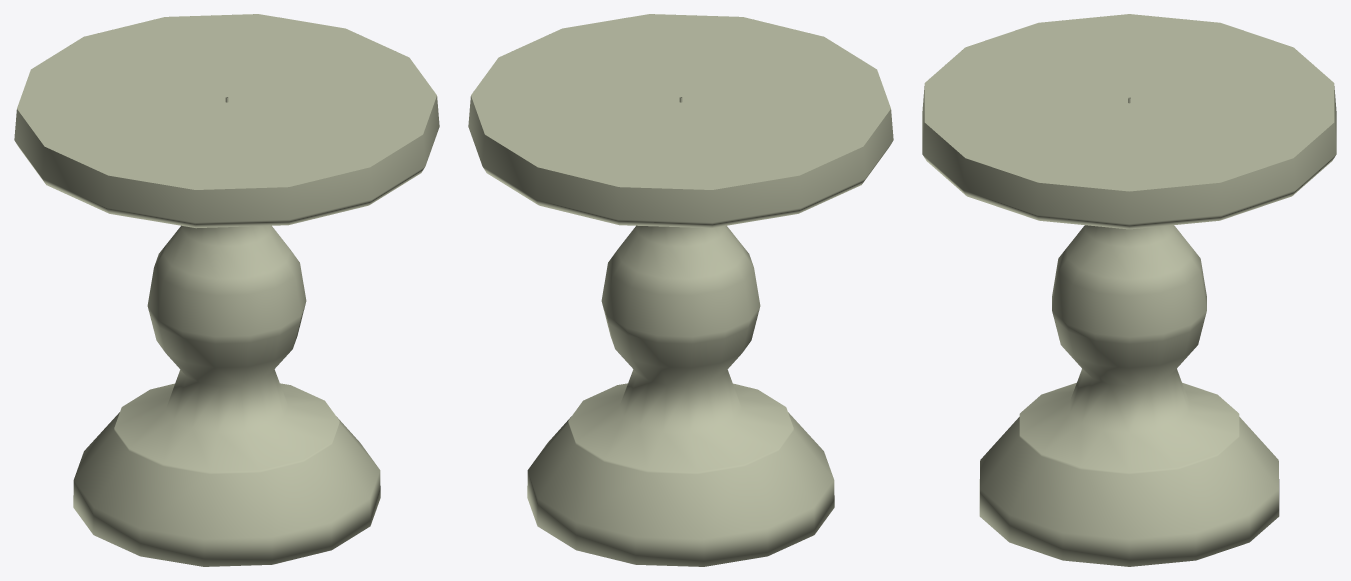
The model's file is small table.fbx.
3 views of the same model, side by side, from view 1: azimuth 30°, elevation 25°; view 2: azimuth 150°, elevation 25°; view 3: azimuth 270°, elevation 25° (orthographic).
Parts seen in each view (by area): view 1: nurbsToPoly1; view 2: nurbsToPoly1; view 3: nurbsToPoly1.
Part boxes in pixels (<box>): nurbsToPoly1: <box>14,14,439,566</box>; nurbsToPoly1: <box>468,14,893,566</box>; nurbsToPoly1: <box>922,14,1336,566</box>.
Bounding box in the file's own units: 11.55 × 12.11 × 11.26.
